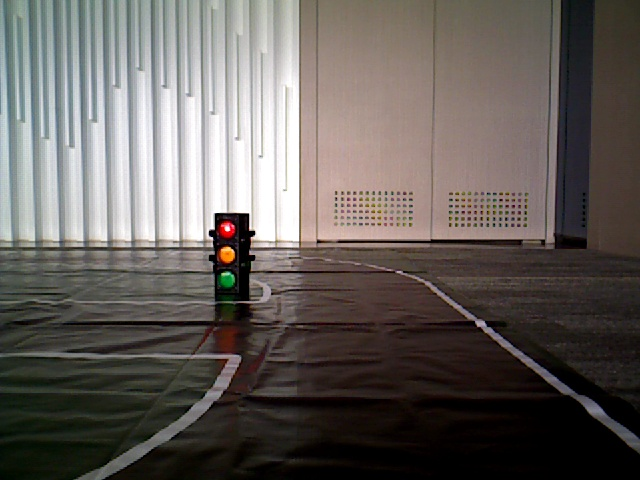red: (213, 216, 242, 290)
